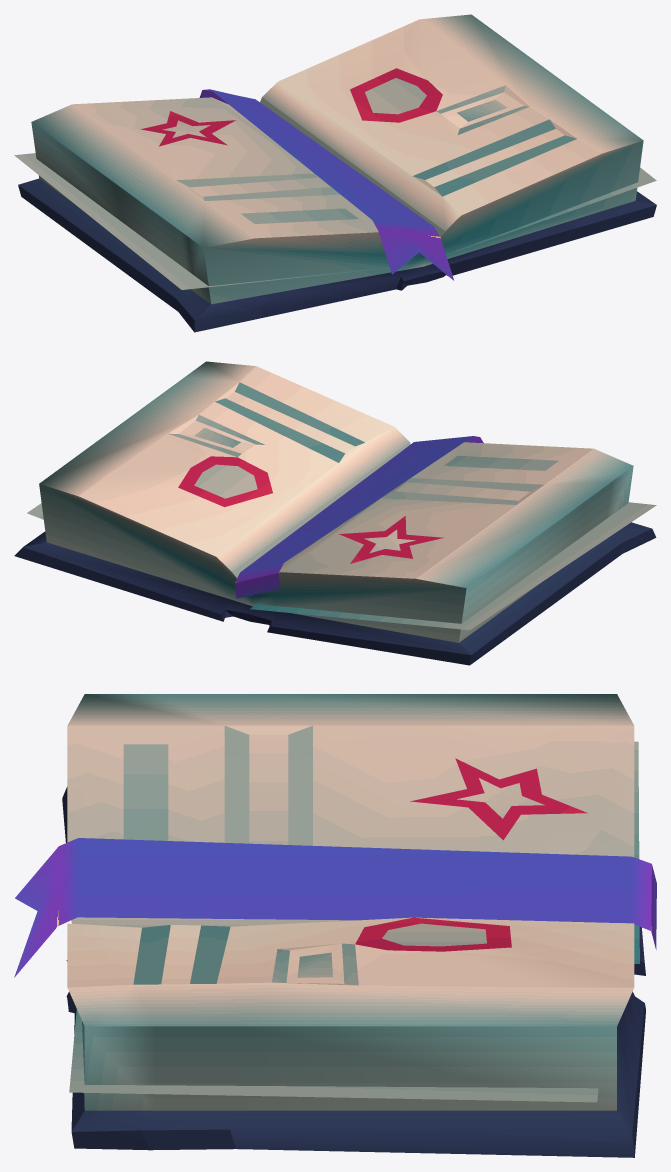
The model's file is Spellbook_Open.fbx.
The picture shows the model from 3 angles, top to bottom: view 1: azimuth 30°, elevation 25°; view 2: azimuth 150°, elevation 25°; view 3: azimuth 270°, elevation 25°; orthographic projection. The views are drawn at different scales.
Parts seen in each view (by area): view 1: pPlane4; view 2: pPlane4; view 3: pPlane4.
Boxes of the visible parts, <box> form: pPlane4: <box>14,14,656,332</box>; pPlane4: <box>14,361,656,665</box>; pPlane4: <box>14,694,656,1157</box>.
Size of the model in its own units: 3.03 by 0.5573 by 2.25.
